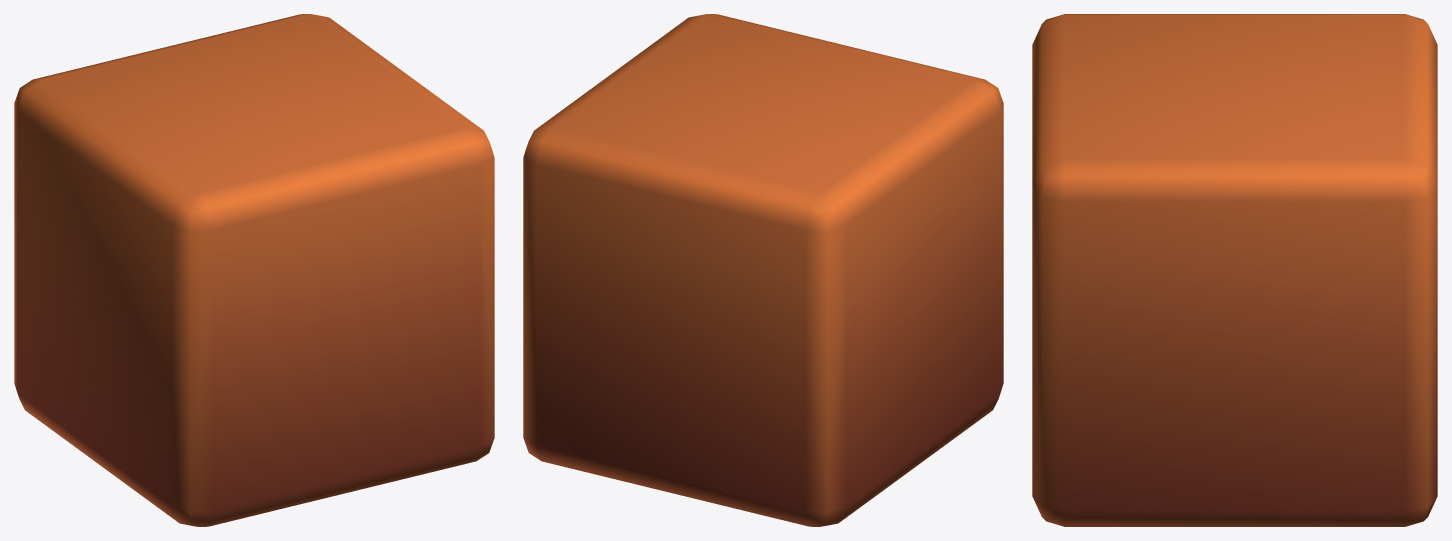
The model's file is cube_copper.gltf.
3 renders of one model, left to right at view 1: azimuth 30°, elevation 25°; view 2: azimuth 150°, elevation 25°; view 3: azimuth 270°, elevation 25°, orthographic. The views are drawn at different scales.
Parts seen in each view (by area): view 1: cube_copper; view 2: cube_copper; view 3: cube_copper.
Part boxes in pixels (<box>): cube_copper: <box>14,14,494,526</box>; cube_copper: <box>523,14,1003,526</box>; cube_copper: <box>1032,14,1437,526</box>.
Size of the model in its own units: 0.5 by 0.5 by 0.5.
Materials: 1 (1 with a texture image).
